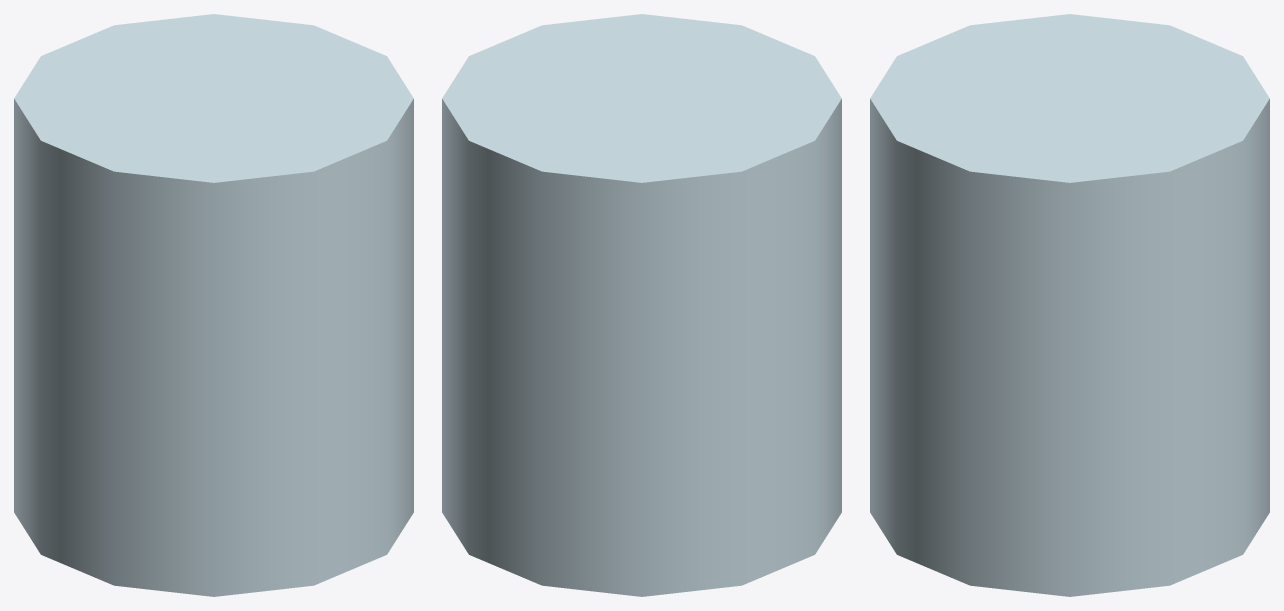
Rendered from candle_jar.glb.
The picture shows the model from 3 angles, left to right: view 1: azimuth 30°, elevation 25°; view 2: azimuth 150°, elevation 25°; view 3: azimuth 270°, elevation 25°; orthographic projection.
Parts seen in each view (by area): view 1: Part2; view 2: Part2; view 3: Part2.
Boxes of the visible parts, x1,y1,x2,y2 form: Part2: (14,14,413,596); Part2: (442,14,841,596); Part2: (870,14,1269,596).
Bounding box in the file's own units: 0.07 × 0.08 × 0.07.
